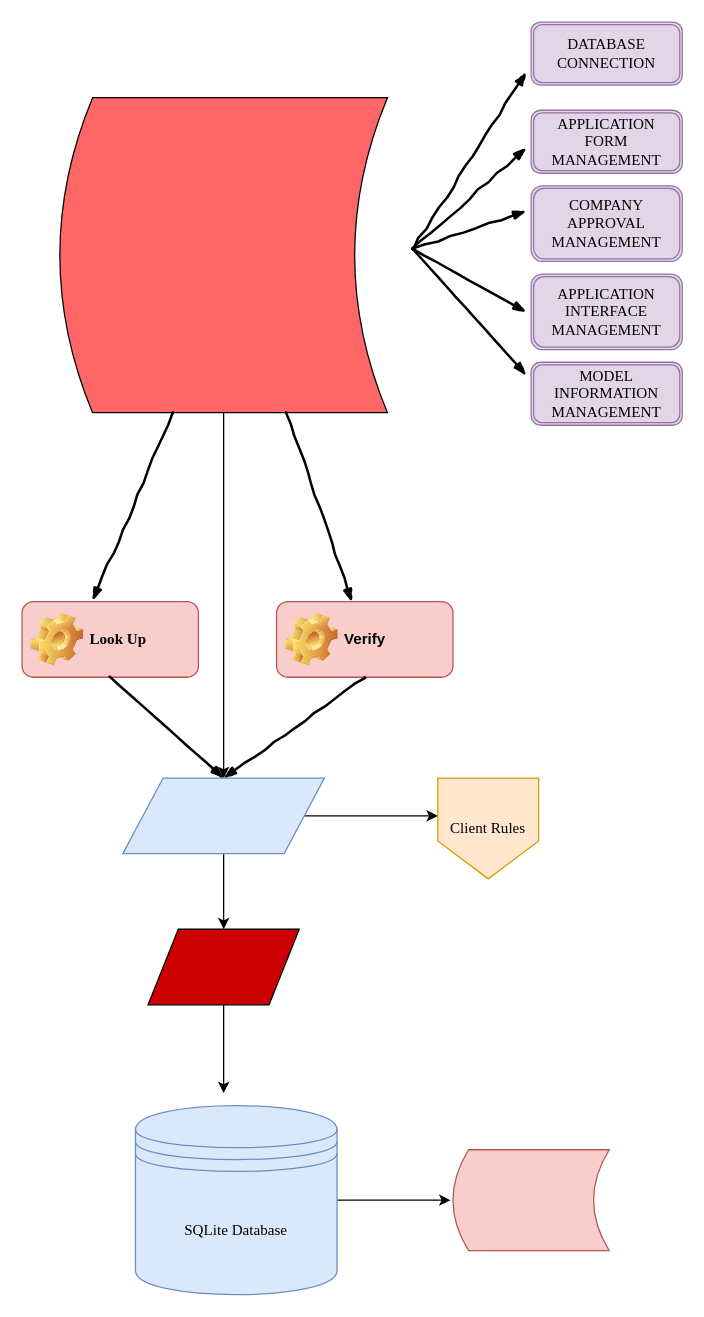
Some shapes in this 704 by 1317 pixel diagram are drawn without their labels. Each missing label, with the centre of its shape:
Business: pixel 223 815
CAST MANAGER: pixel 223 254
Database Rules: pixel 530 1199
Engine: pixel 223 966
